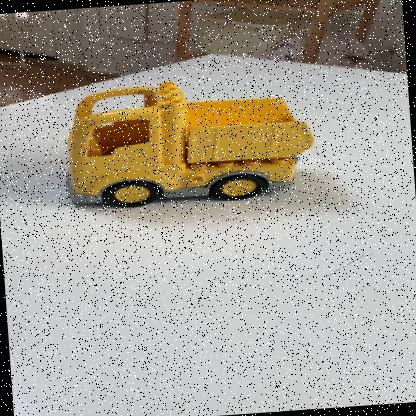yellow dump truck: (58, 72, 318, 214)
